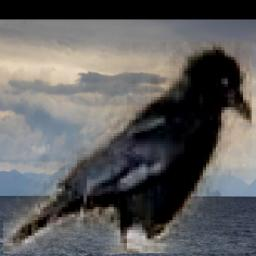Crow: (4, 43, 253, 254)
